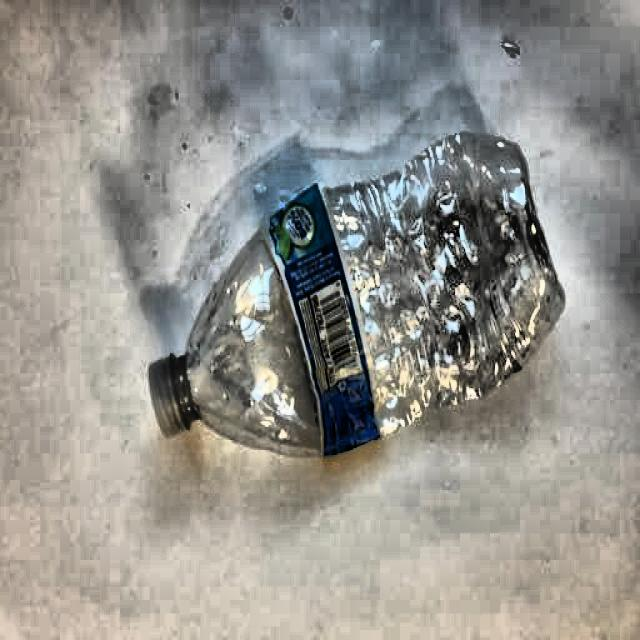plastic: (142, 128, 563, 452)
